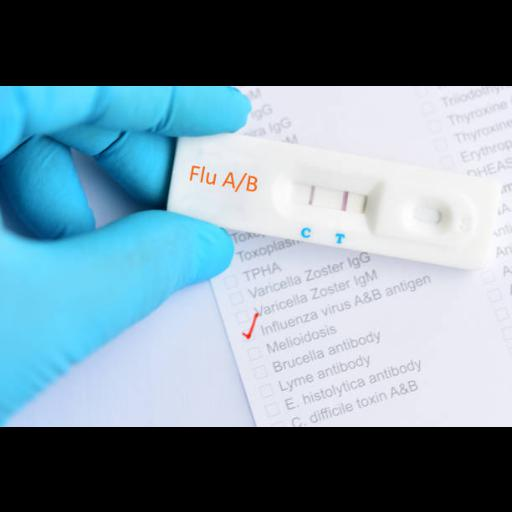Pos: (166, 122, 501, 272)
